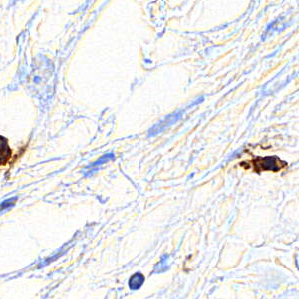Lymphocyte: (239, 152, 290, 176)
